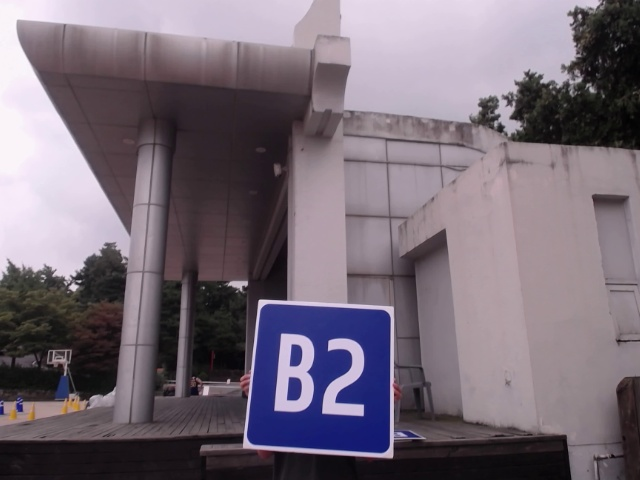delivery_b2: (243, 302, 394, 455)
